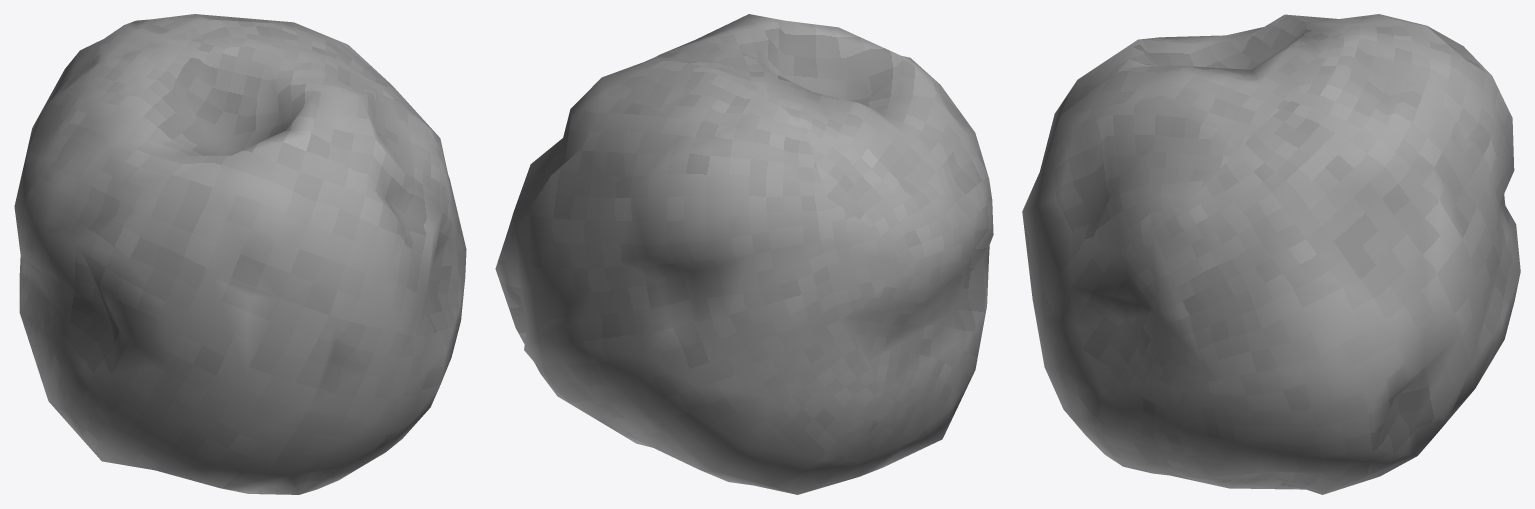
Rendered from asteroid.glb.
3 views of the same model, side by side, from view 1: azimuth 30°, elevation 25°; view 2: azimuth 150°, elevation 25°; view 3: azimuth 270°, elevation 25° (orthographic). The views are drawn at different scales.
Visible parts, largest first — view 1: Sphere; view 2: Sphere; view 3: Sphere.
Boxes of the visible parts, left/top/right/bottom form: Sphere: left=14, top=14, right=466, bottom=494; Sphere: left=495, top=14, right=993, bottom=494; Sphere: left=1022, top=14, right=1520, bottom=494.
Size of the model in its own units: 1.63 by 1.46 by 1.57.
Materials: 1 (1 with a texture image).
